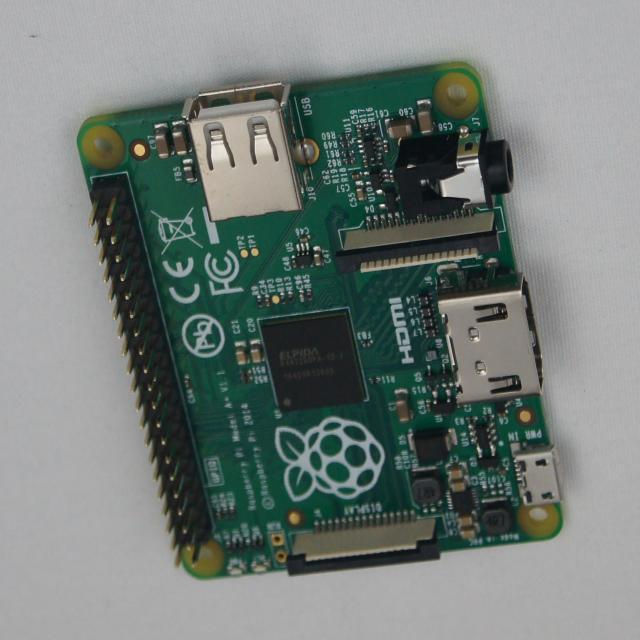Raspberry-Pi-1-A-: (78, 63, 563, 578)
